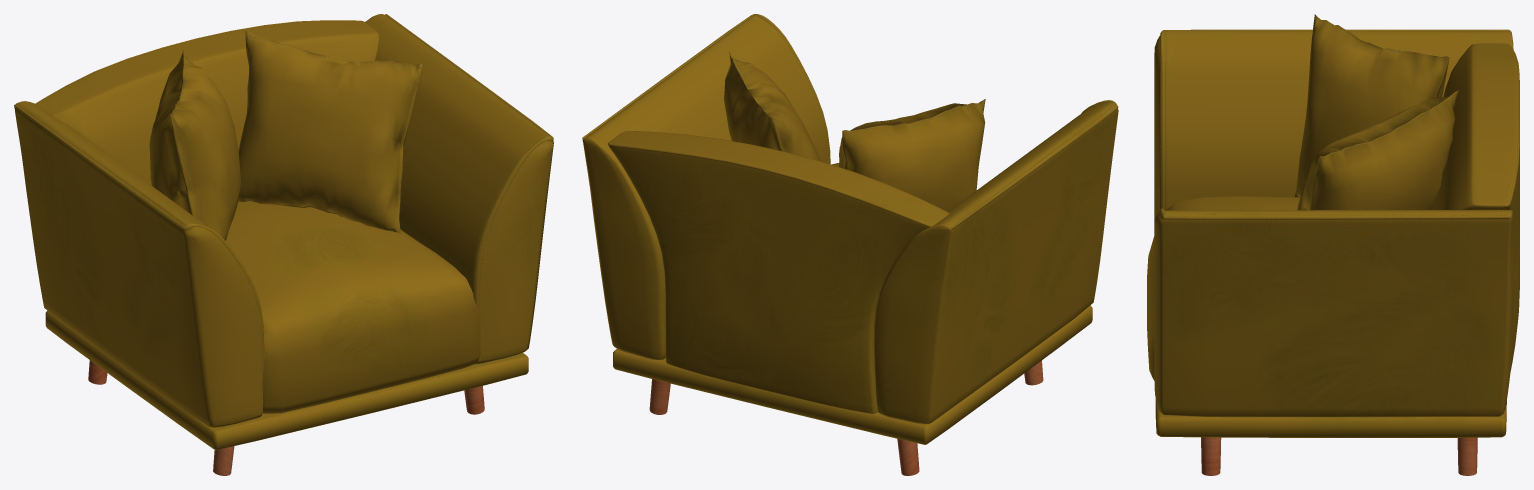
Rendered from yellowoneseater.glb.
The picture shows the model from 3 angles, left to right: view 1: azimuth 30°, elevation 25°; view 2: azimuth 150°, elevation 25°; view 3: azimuth 270°, elevation 25°; orthographic projection. The views are drawn at different scales.
Visible parts, largest first — view 1: oneseater:single_seaterone_seater1; view 2: oneseater:single_seaterone_seater1; view 3: oneseater:single_seaterone_seater1.
Boxes of the visible parts, box(x1,y1,x2,y2) form: oneseater:single_seaterone_seater1: box(14, 14, 553, 475); oneseater:single_seaterone_seater1: box(582, 14, 1118, 475); oneseater:single_seaterone_seater1: box(1147, 14, 1519, 475).
Bounding box in the file's own units: 1.34 × 1.1 × 1.12.
Materials: 1 (1 with a texture image).
